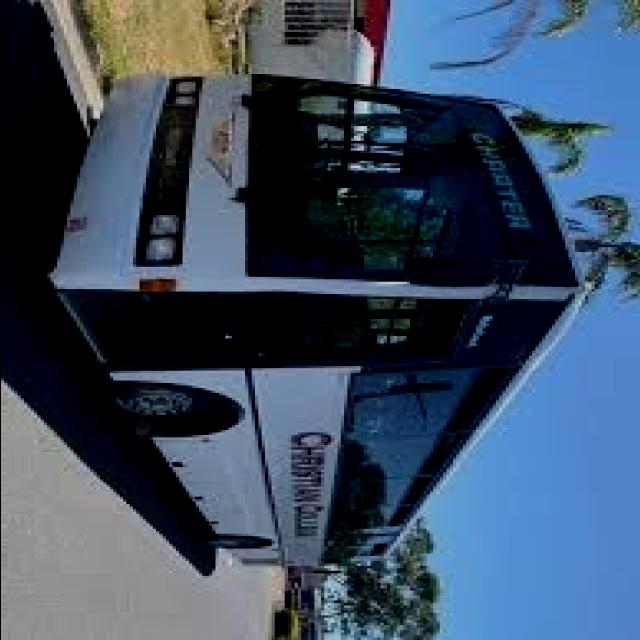bus: (35, 42, 622, 593)
